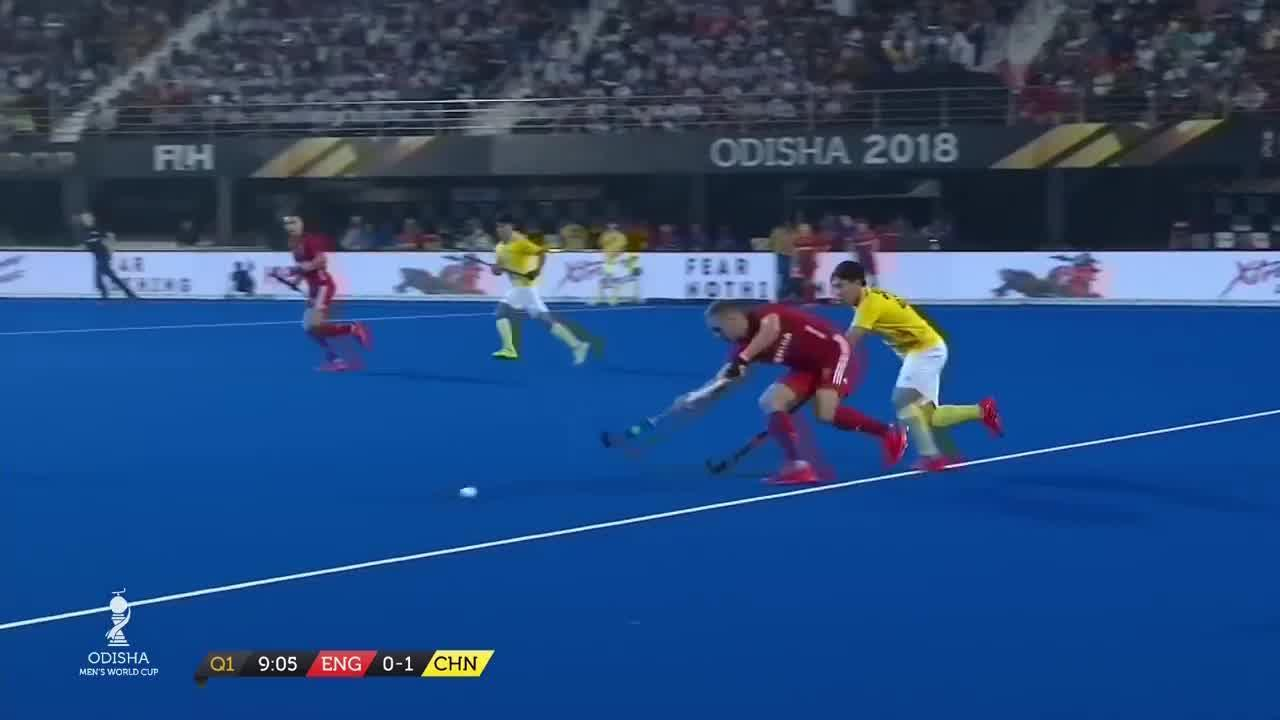ball: (455, 476, 486, 504)
